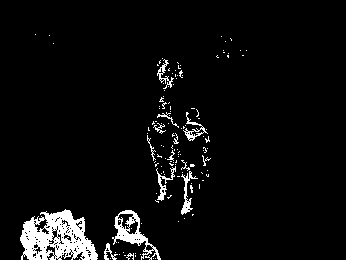person: (181, 107, 211, 216), (104, 208, 164, 260), (148, 98, 178, 201)
